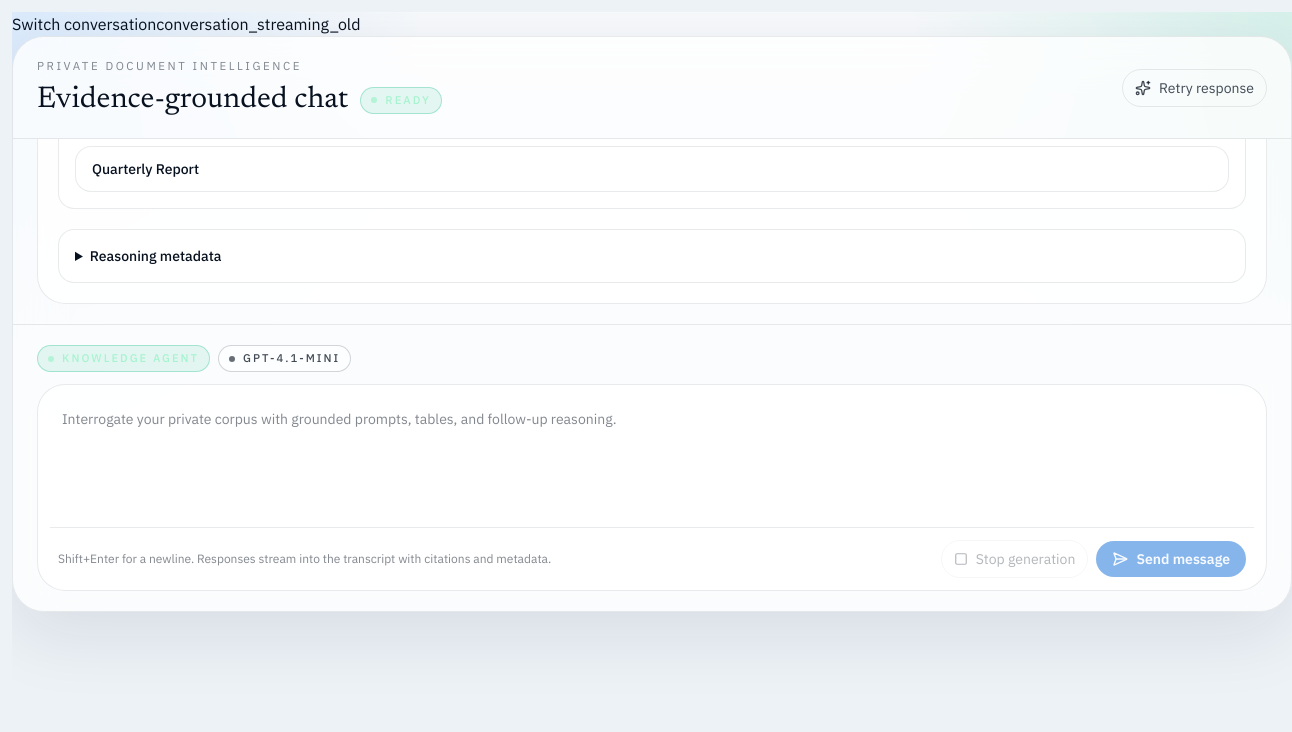
Test: ChatView › does not snap back to a stale streamed conversation after the user switches threads before completion
(page scrolled)
Click the button "Switch conversation".
click(84, 24)  # box x1=12 y1=12 x2=156 y2=36
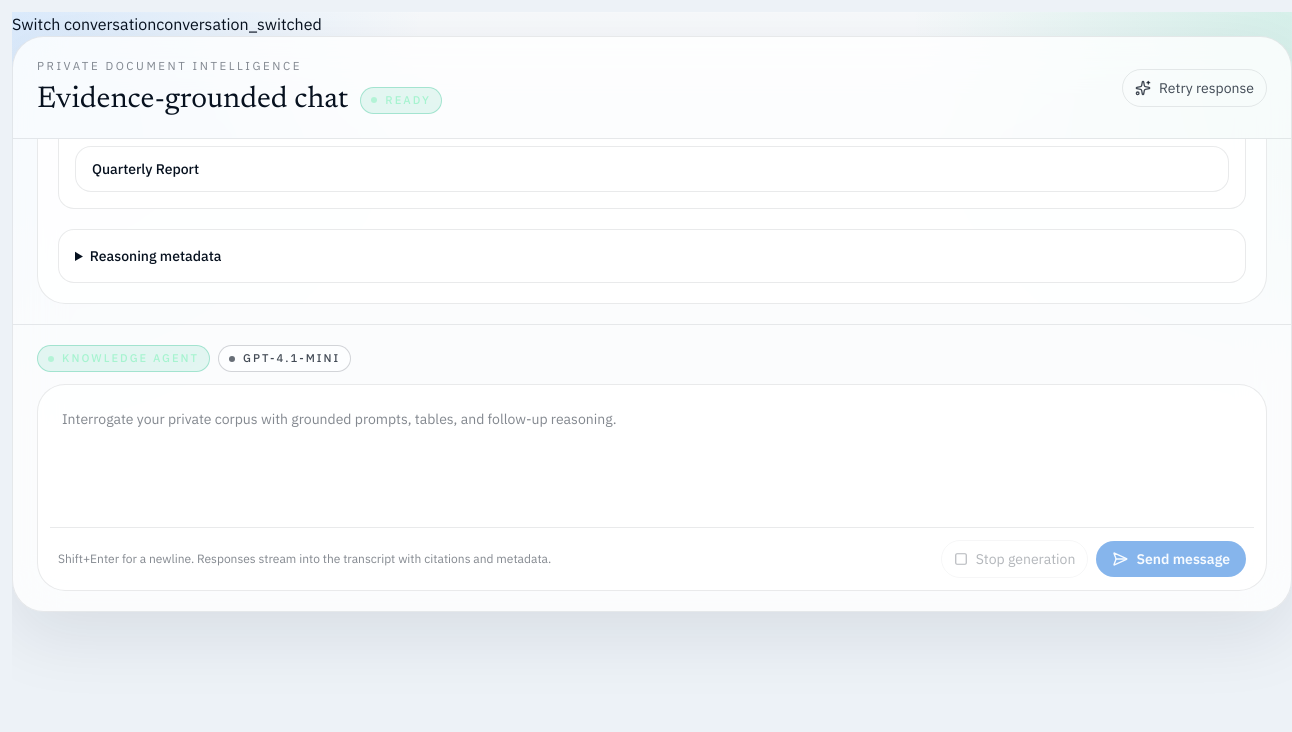
Check: the text with test id "active-conversation" reads "conversation_switched", box x1=156 y1=14 x2=322 y2=34
